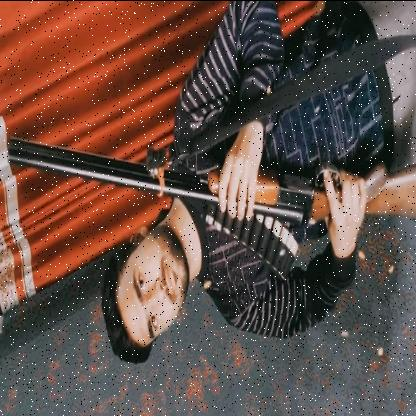rifle: (4, 128, 416, 230)
